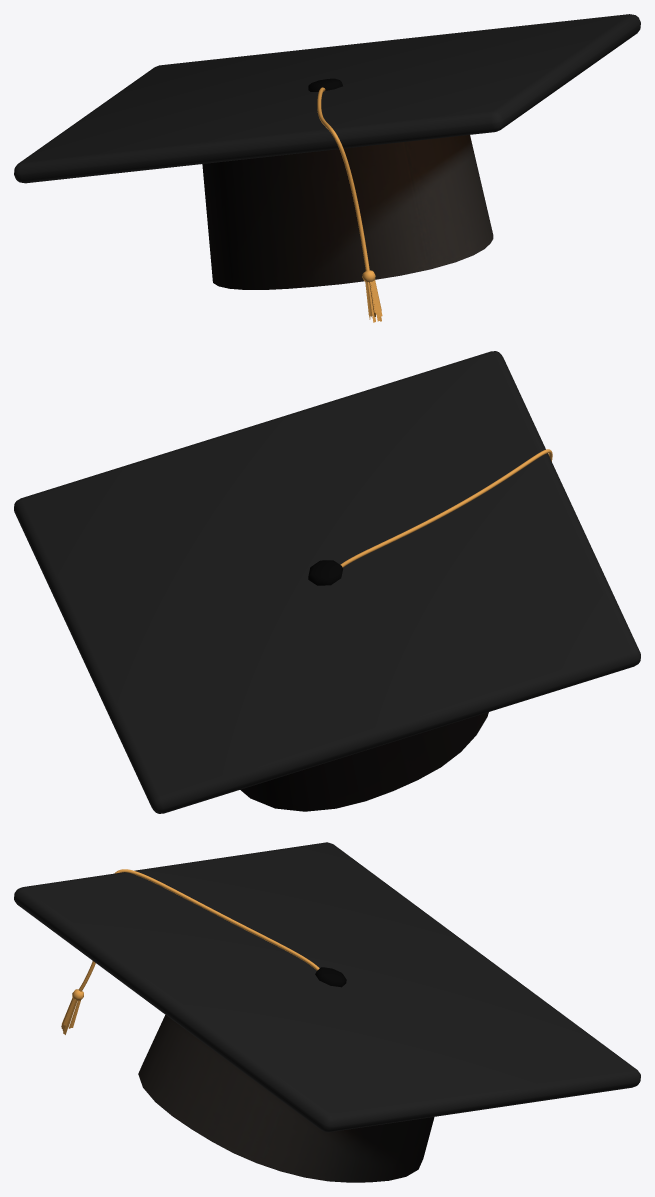
Rendered from gradcap.glb.
3 renders of one model, top to bottom at view 1: azimuth 30°, elevation 25°; view 2: azimuth 150°, elevation 25°; view 3: azimuth 270°, elevation 25°, orthographic. The views are drawn at different scales.
Visible parts, largest first — view 1: Cube.001, Cylinder.001, NurbsPath.001, Plane.002; view 2: Cube.001, Cylinder.001, NurbsPath.001, Cube.003; view 3: Cube.001, Cylinder.001, NurbsPath.001.
Boxes of the visible parts, box(x1,y1,x2,y2) form: Cube.001: box(14, 14, 640, 183); Cylinder.001: box(202, 135, 493, 289); NurbsPath.001: box(317, 87, 369, 271); Plane.002: box(365, 280, 382, 322); Cube.001: box(14, 351, 640, 813); Cylinder.001: box(240, 712, 488, 811); NurbsPath.001: box(340, 449, 552, 567); Cube.003: box(308, 560, 342, 585); Cube.001: box(14, 842, 640, 1132); Cylinder.001: box(138, 1015, 434, 1182); NurbsPath.001: box(78, 869, 319, 991).
Size of the model in its own units: 2.79 by 1.27 by 2.66.
4 materials, 1 textured.
